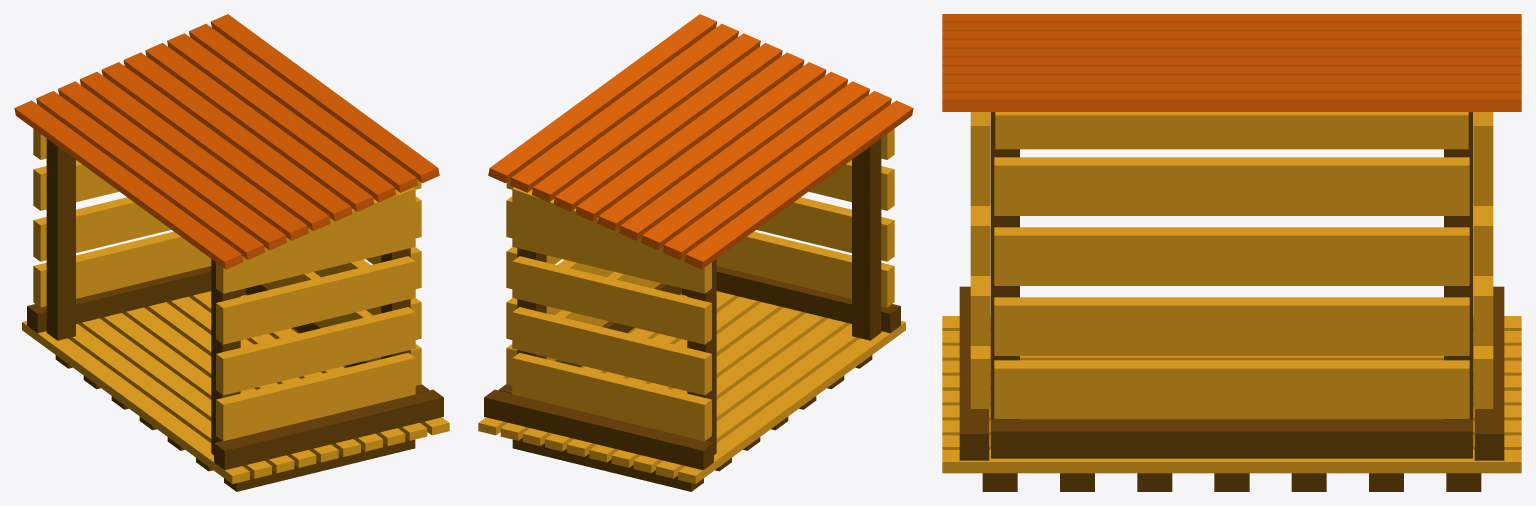
Rendered from woodStorage.fbx.
The picture shows the model from 3 angles, left to right: view 1: azimuth 30°, elevation 25°; view 2: azimuth 150°, elevation 25°; view 3: azimuth 270°, elevation 25°; orthographic projection. The views are drawn at different scales.
Visible parts, largest first — view 1: Roof, Panels, Floor, Supports, Cube.002; view 2: Roof, Panels, Floor, Supports, Cube.002; view 3: Panels, Roof, Supports, Floor, Cube.002.
Boxes of the visible parts, x1,y1,x2,y2 form: Roof: [14, 14, 439, 269]; Panels: [33, 129, 421, 441]; Floor: [22, 291, 449, 483]; Supports: [27, 40, 443, 470]; Cube.002: [55, 355, 415, 491]; Roof: [488, 14, 913, 269]; Panels: [506, 129, 894, 441]; Floor: [478, 291, 905, 483]; Supports: [484, 40, 900, 470]; Cube.002: [512, 355, 872, 491]; Panels: [970, 112, 1493, 418]; Roof: [942, 14, 1521, 111]; Supports: [959, 112, 1504, 460]; Floor: [942, 316, 1521, 473]; Cube.002: [982, 473, 1481, 491].
Bounding box in the file's own units: 1392 × 1705 × 2249.
